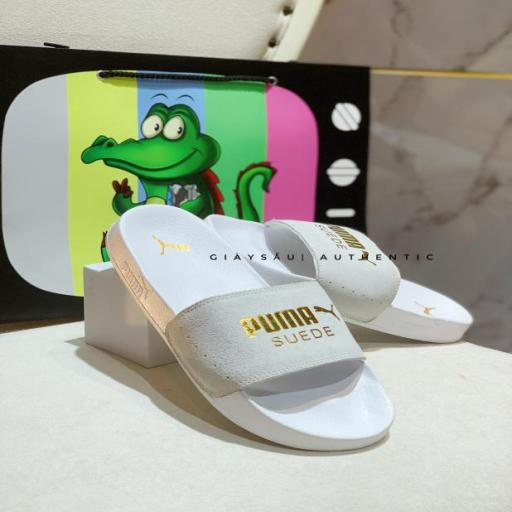Puma: (237, 304, 318, 338), (148, 229, 195, 261), (310, 293, 343, 329), (356, 248, 376, 266)
